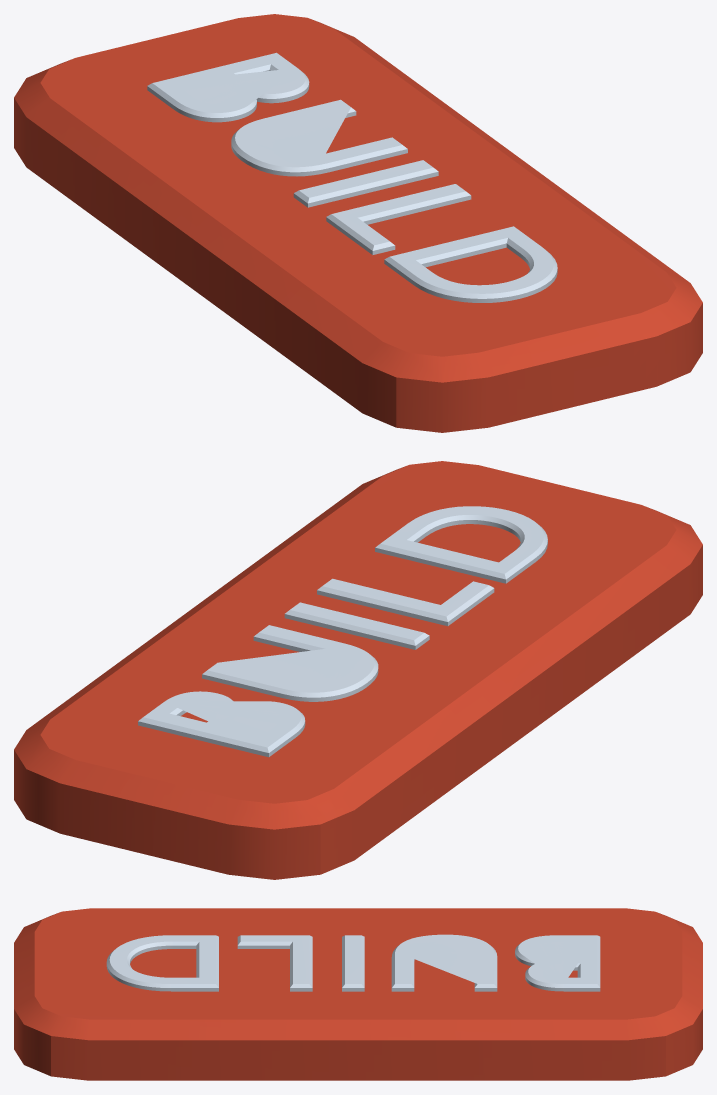
Rendered from sign_build.fbx.
The picture shows the model from 3 angles, top to bottom: view 1: azimuth 30°, elevation 25°; view 2: azimuth 150°, elevation 25°; view 3: azimuth 270°, elevation 25°; orthographic projection. The views are drawn at different scales.
Visible parts, largest first — view 1: sign_build; view 2: sign_build; view 3: sign_build.
Boxes of the visible parts, x1=… form: sign_build: x1=14, y1=14, x2=702, y2=432; sign_build: x1=14, y1=461, x2=702, y2=879; sign_build: x1=14, y1=908, x2=702, y2=1080.
Bounding box in the file's own units: 180 × 38.07 × 407.
